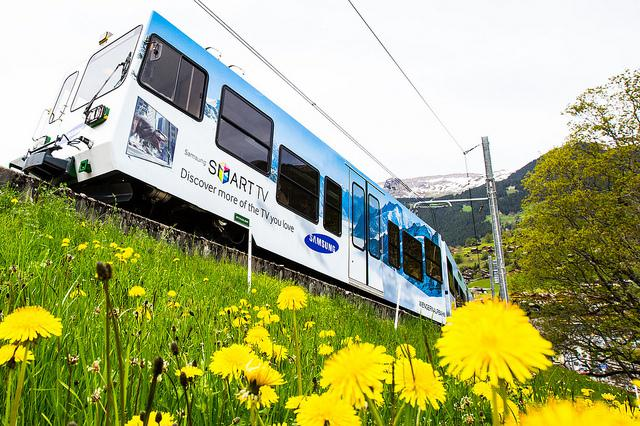Train: (14, 11, 480, 327)
